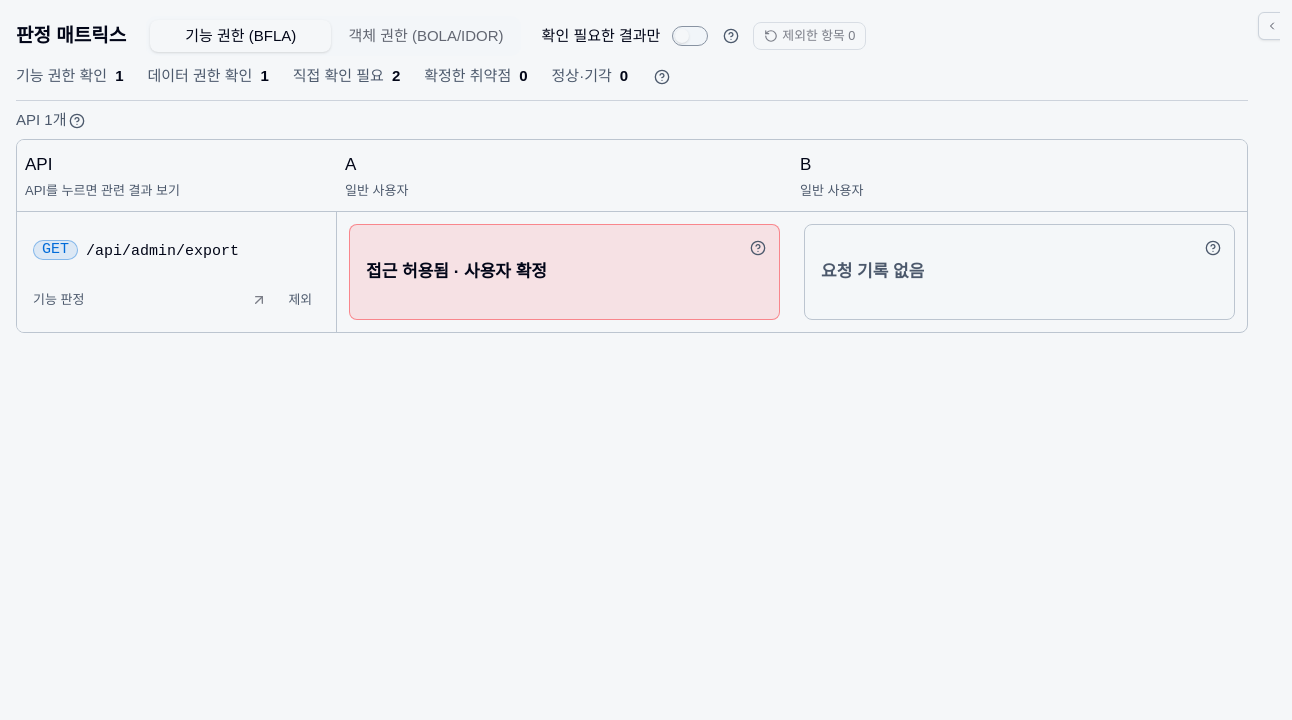
Test: marks confirmed cells red, keeps review available, and explains a gap without any request record
The image size is (1292, 720).
Click the button with aria-label "요청 기록 없음: B · GET /api/admin/export" at (873, 271), box [804,224,1235,320]
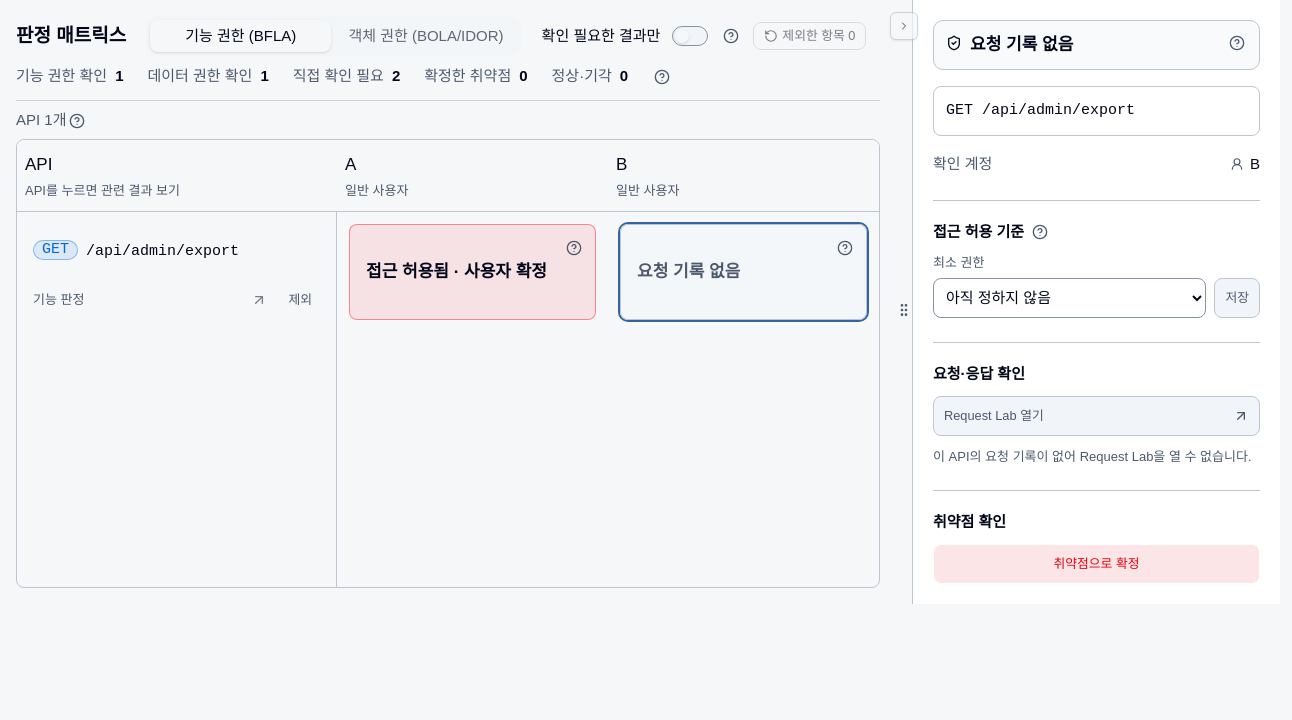
Check: the button "Request Lab 열기" is disabled, box [933,396,1260,436]
Check: the element "요청·응답 확인" shows "이 API의 요청 기록이 없어 Request Lab을 열 수 없습니다.", box [933,449,1252,464]
Check: the button "취약점으로 확정" is enabled, box [933,544,1260,584]
